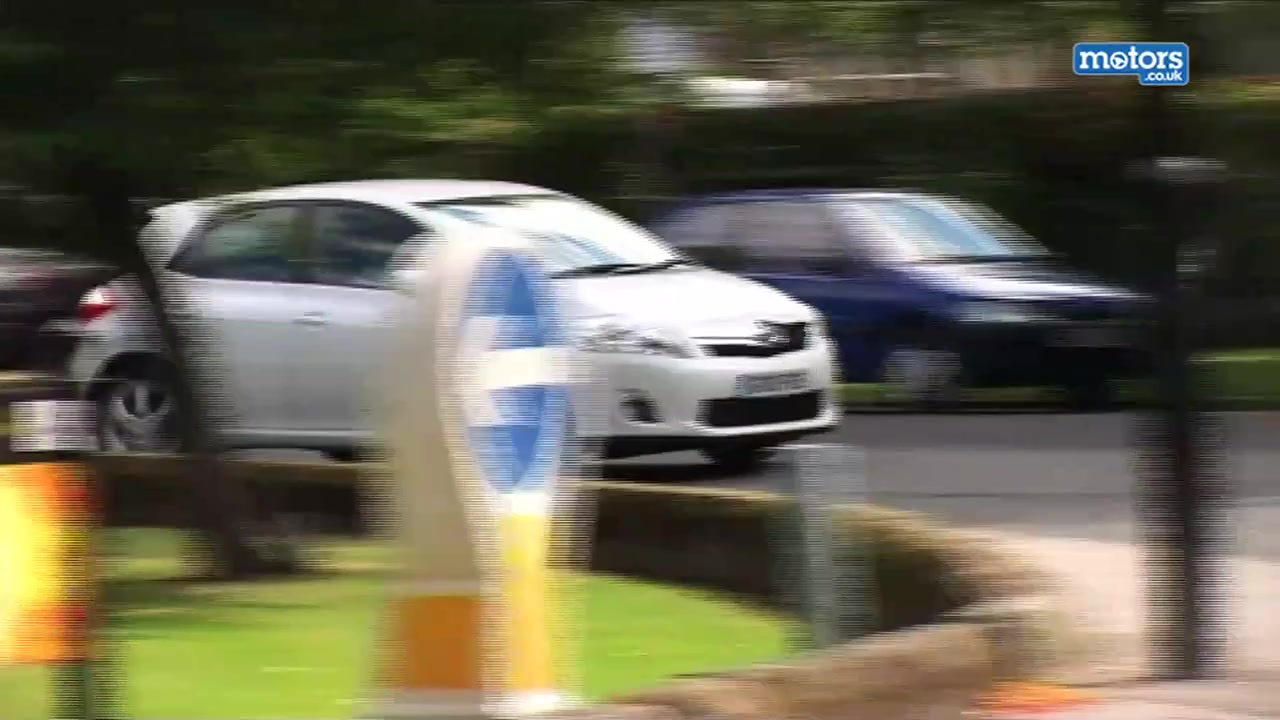car: (69, 170, 842, 485), (654, 187, 1165, 407)
